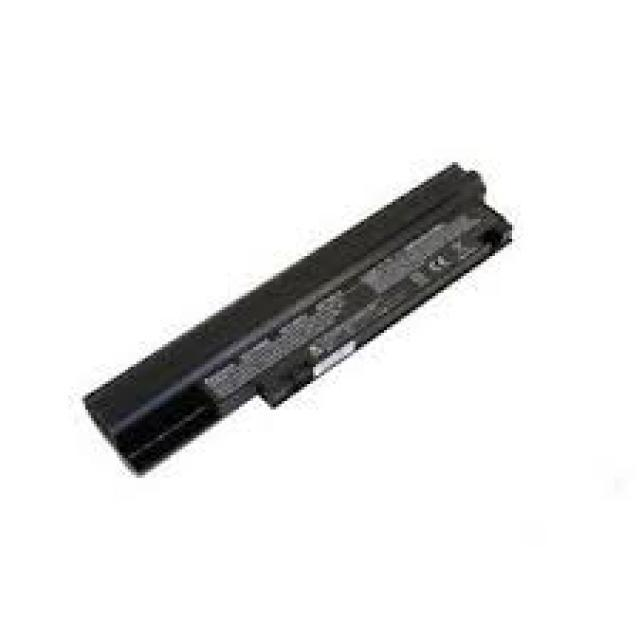battery: (83, 162, 514, 474)
